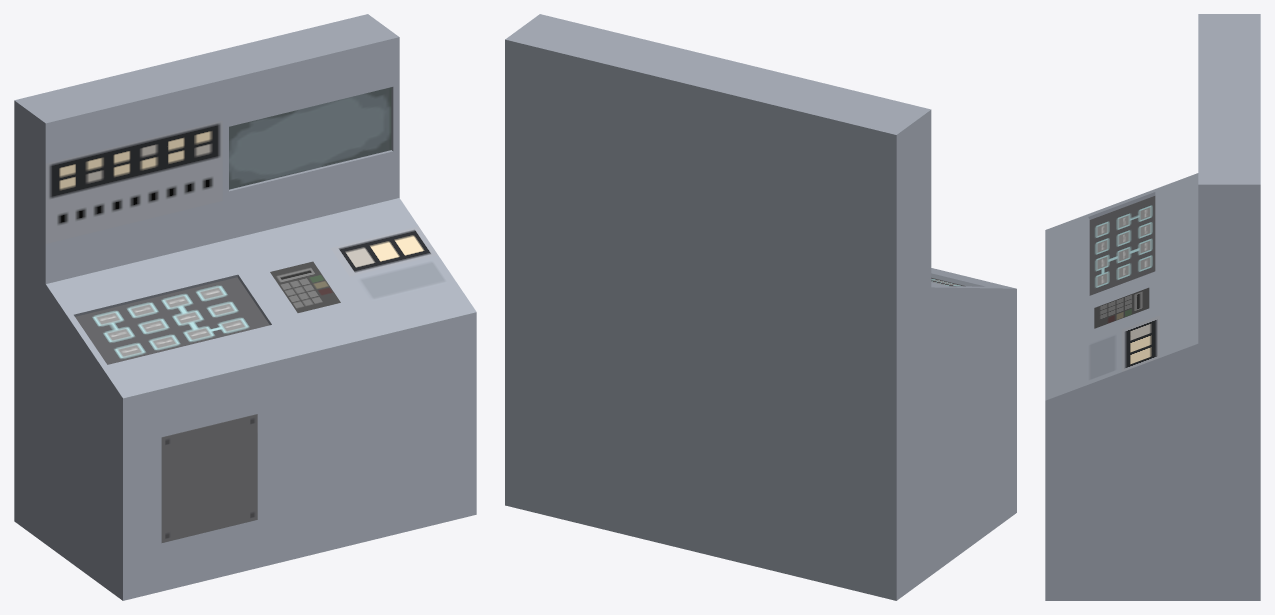
Rendered from IBM.fbx.
The picture shows the model from 3 angles, left to right: view 1: azimuth 30°, elevation 25°; view 2: azimuth 150°, elevation 25°; view 3: azimuth 270°, elevation 25°; orthographic projection. The views are drawn at different scales.
Parts seen in each view (by area): view 1: Cube; view 2: Cube; view 3: Cube.
Part boxes in pixels (x1=…): Cube: x1=14, y1=14, x2=476, y2=600; Cube: x1=505, y1=14, x2=1016, y2=600; Cube: x1=1045, y1=14, x2=1260, y2=600.
Bounding box in the file's own units: 219 × 250 × 117.
